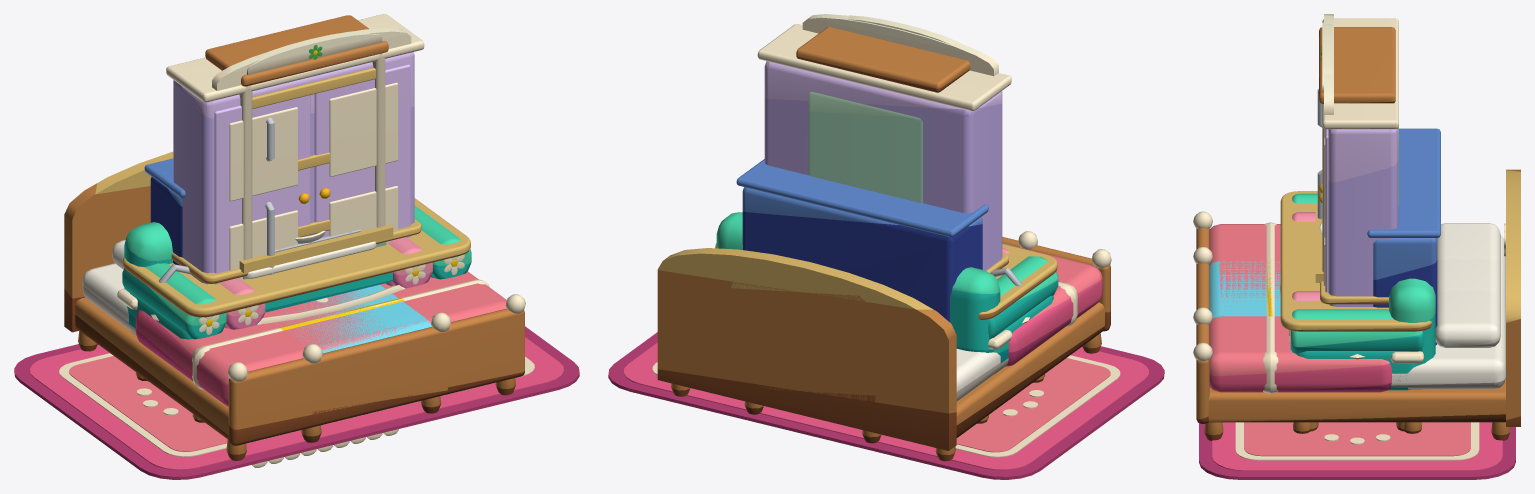
File: items_furniture.glb
The picture shows the model from 3 angles, left to right: view 1: azimuth 30°, elevation 25°; view 2: azimuth 150°, elevation 25°; view 3: azimuth 270°, elevation 25°; orthographic projection. The views are drawn at different scales.
Parts seen in each view (by area): view 1: fur-doublebed, fur-wardrobe, fur-bigrug, fur-bed, fur-bookcase, fur-diningtable, fur-sofa, fur-piano, fur-armchair, fur-counter, fur-bathtub, fur-washstand (+3 smaller); view 2: fur-doublebed, fur-wardrobe, fur-bigrug, fur-piano, fur-bed, fur-fridge, fur-sofa, fur-bookcase, fur-diningtable; view 3: fur-doublebed, fur-bigrug, fur-wardrobe, fur-piano, fur-sofa, fur-bed, fur-diningtable, fur-bookcase, fur-dresser, fur-counter, fur-armchair, fur-fridge.
Part boxes in pixels (x1,y1,x2,y2): fur-doublebed: (64, 151, 525, 460); fur-wardrobe: (166, 14, 424, 284); fur-bigrug: (14, 326, 579, 479); fur-bed: (147, 190, 450, 442); fur-bookcase: (205, 15, 388, 259); fur-diningtable: (123, 198, 470, 381); fur-sofa: (122, 205, 471, 422); fur-piano: (144, 158, 185, 265); fur-armchair: (220, 237, 432, 329); fur-counter: (239, 224, 393, 273); fur-bathtub: (151, 264, 404, 324); fur-washstand: (245, 231, 376, 278); fur-doublebed: (657, 237, 1111, 461); fur-wardrobe: (757, 14, 1011, 270); fur-bigrug: (608, 332, 1164, 479); fur-piano: (736, 159, 988, 322); fur-bed: (731, 231, 1037, 443); fur-fridge: (808, 91, 922, 203); fur-sofa: (716, 212, 1058, 423); fur-bookcase: (796, 15, 970, 92); fur-diningtable: (715, 243, 1057, 383); fur-doublebed: (1193, 169, 1520, 440); fur-bigrug: (1199, 422, 1515, 479); fur-wardrobe: (1319, 14, 1398, 306); fur-piano: (1367, 128, 1440, 345); fur-sofa: (1289, 193, 1435, 433); fur-bed: (1193, 223, 1505, 332); fur-diningtable: (1280, 191, 1431, 431); fur-bookcase: (1319, 22, 1395, 271); fur-dresser: (1320, 281, 1388, 304); fur-counter: (1315, 203, 1323, 282); fur-armchair: (1292, 212, 1320, 300); fur-fridge: (1317, 89, 1398, 218).
Size of the model in its own units: 2.9 by 2.56 by 1.97.
